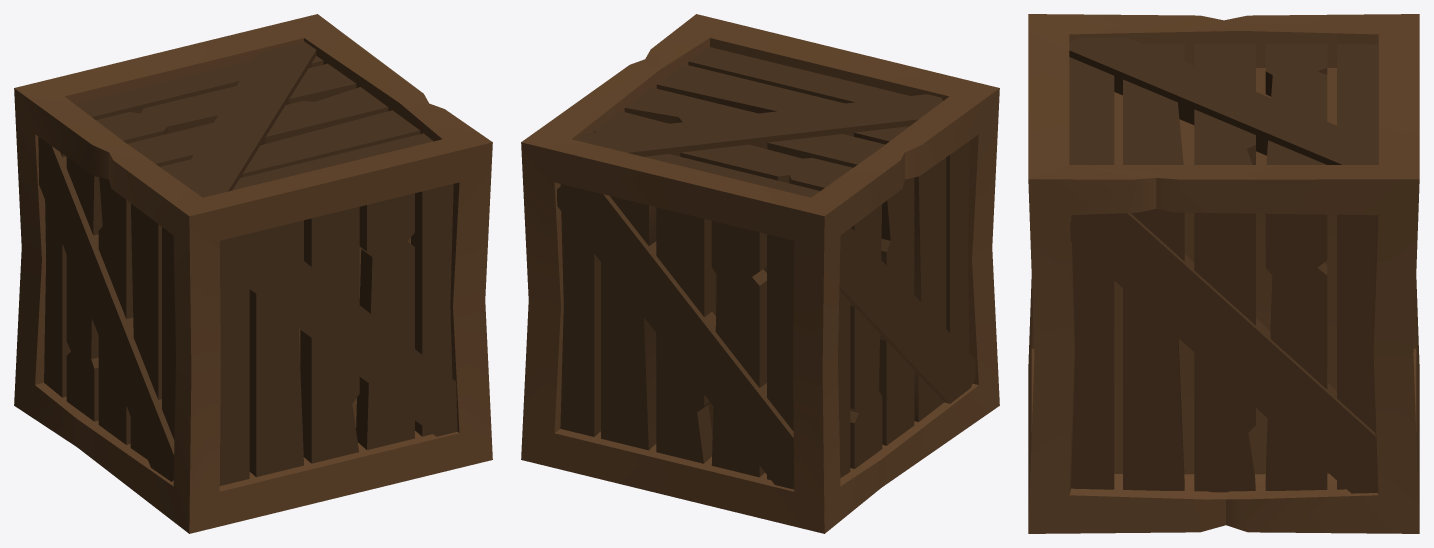
File: v_crate.glb
3 views of the same model, side by side, from view 1: azimuth 30°, elevation 25°; view 2: azimuth 150°, elevation 25°; view 3: azimuth 270°, elevation 25° (orthographic). The views are drawn at different scales.
Parts seen in each view (by area): view 1: Crate; view 2: Crate; view 3: Crate.
Boxes of the visible parts, x1=… form: Crate: x1=14, y1=14, x2=492, y2=533; Crate: x1=521, y1=14, x2=999, y2=533; Crate: x1=1028, y1=14, x2=1419, y2=533.
Bounding box in the file's own units: 0.1602 × 0.1602 × 0.1602.
